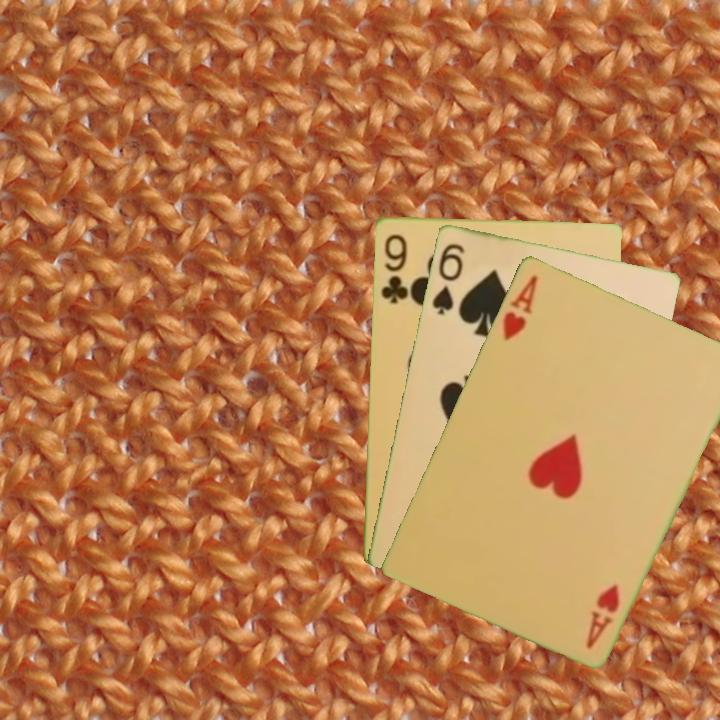6s: (428, 239, 467, 317)
9c: (377, 230, 410, 306)
Ah: (498, 271, 541, 344), (582, 579, 622, 651)
